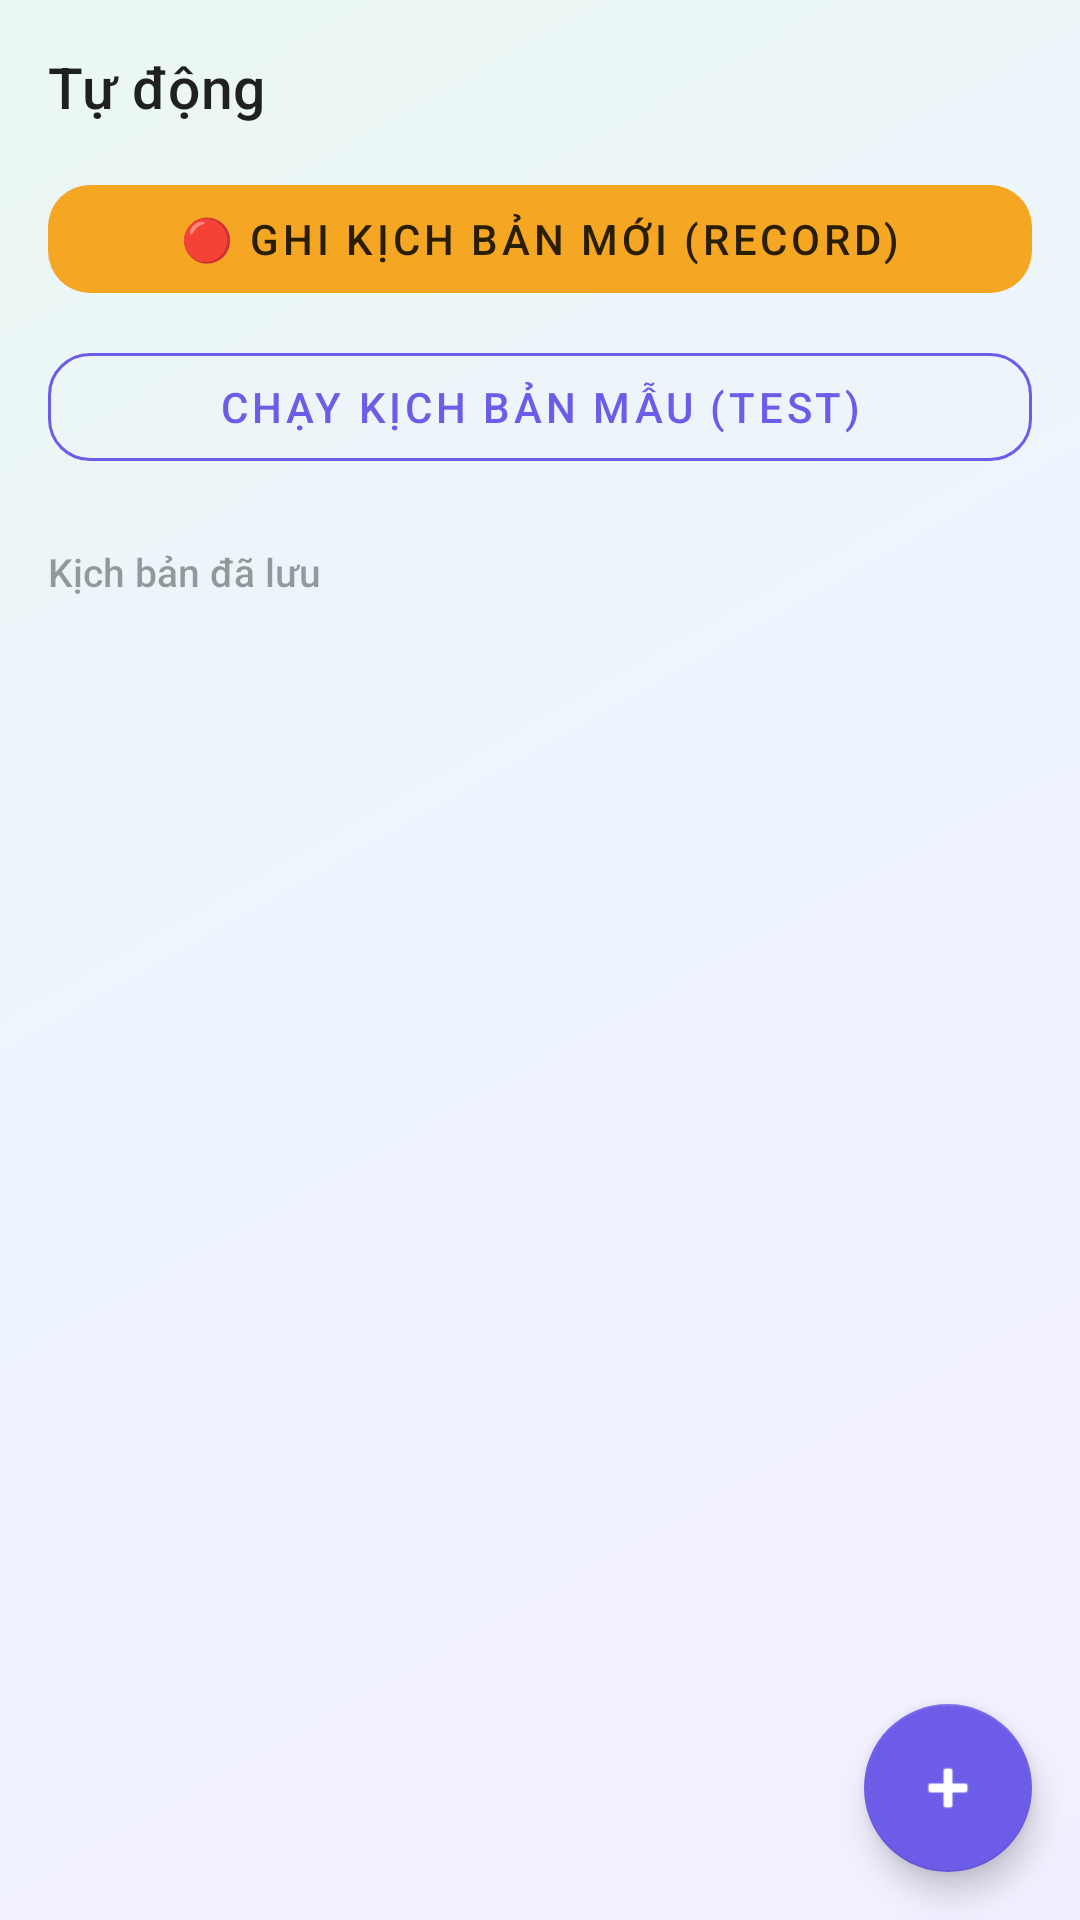

Locate icon controls on the screen. Image size 1080*1920, boxes as (x1, y1, x2, y2).
Thêm kịch bản: (864, 1704, 1032, 1872)
